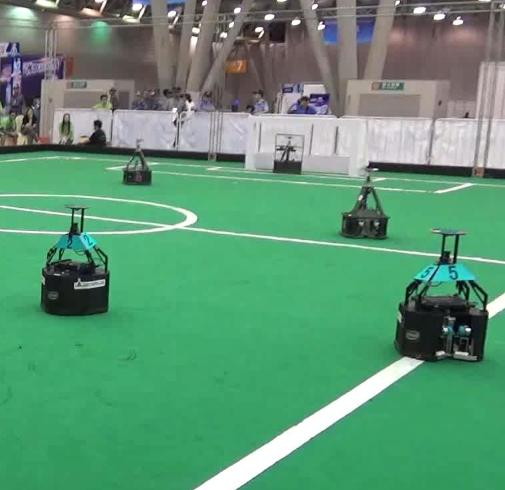robot: (391, 217, 491, 370), (35, 200, 112, 315), (337, 160, 401, 241)
